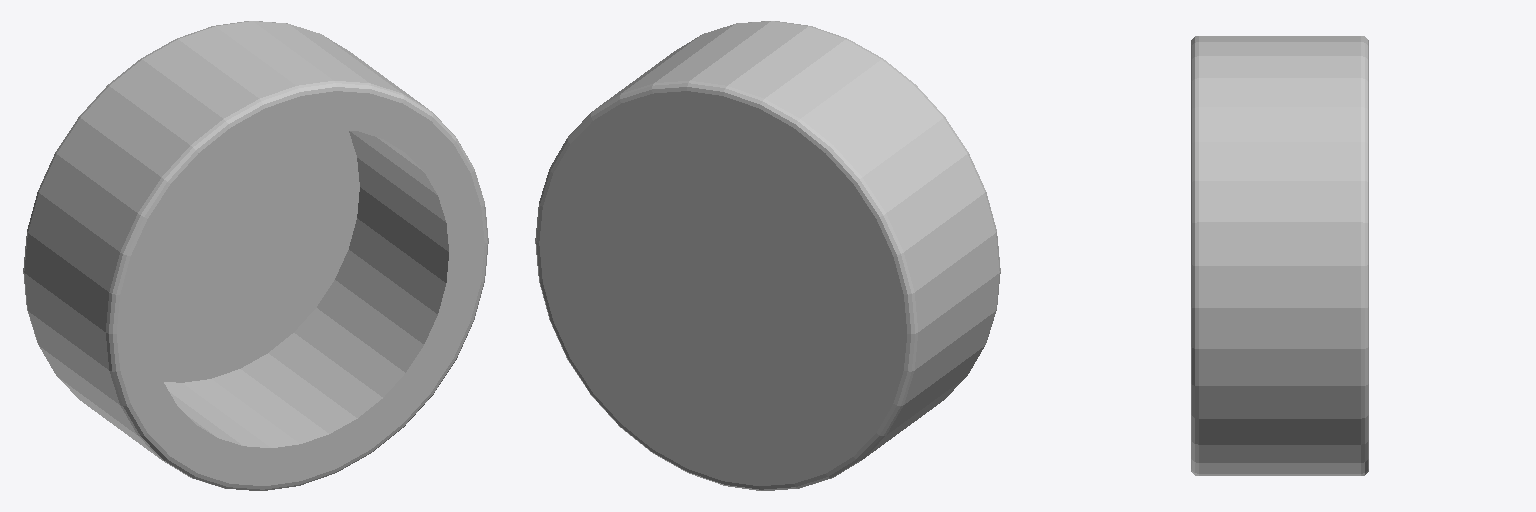
Rendered from convertible.obj.
The picture shows the model from 3 angles: view 1: azimuth 30°, elevation 25°; view 2: azimuth 150°, elevation 25°; view 3: azimuth 270°, elevation 25°; orthographic projection.
Parts seen in each view (by area): view 1: Cylinder; view 2: Cylinder; view 3: Cylinder.
Part boxes in pixels (bbox=[...]): Cylinder: bbox=[23, 21, 488, 490]; Cylinder: bbox=[535, 21, 1000, 490]; Cylinder: bbox=[1191, 36, 1368, 475].
Bounding box in the file's own units: 0.6469 × 0.6469 × 0.2621.